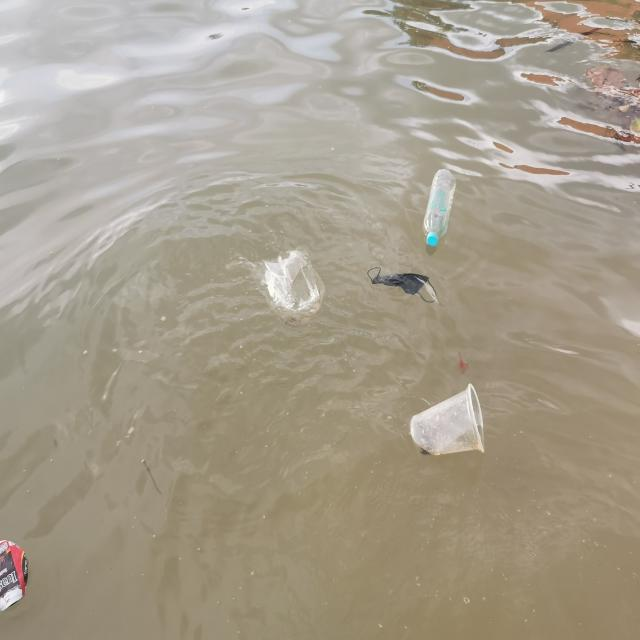can: (0, 532, 32, 619)
plastic: (421, 165, 460, 249)
plastic bottle: (401, 377, 494, 467), (227, 246, 328, 328)
unknow: (364, 264, 440, 310)
